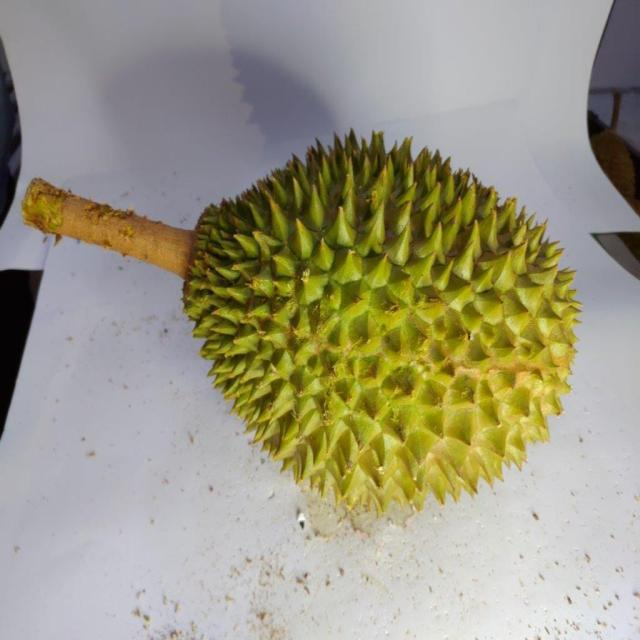immature: (188, 127, 581, 527)
